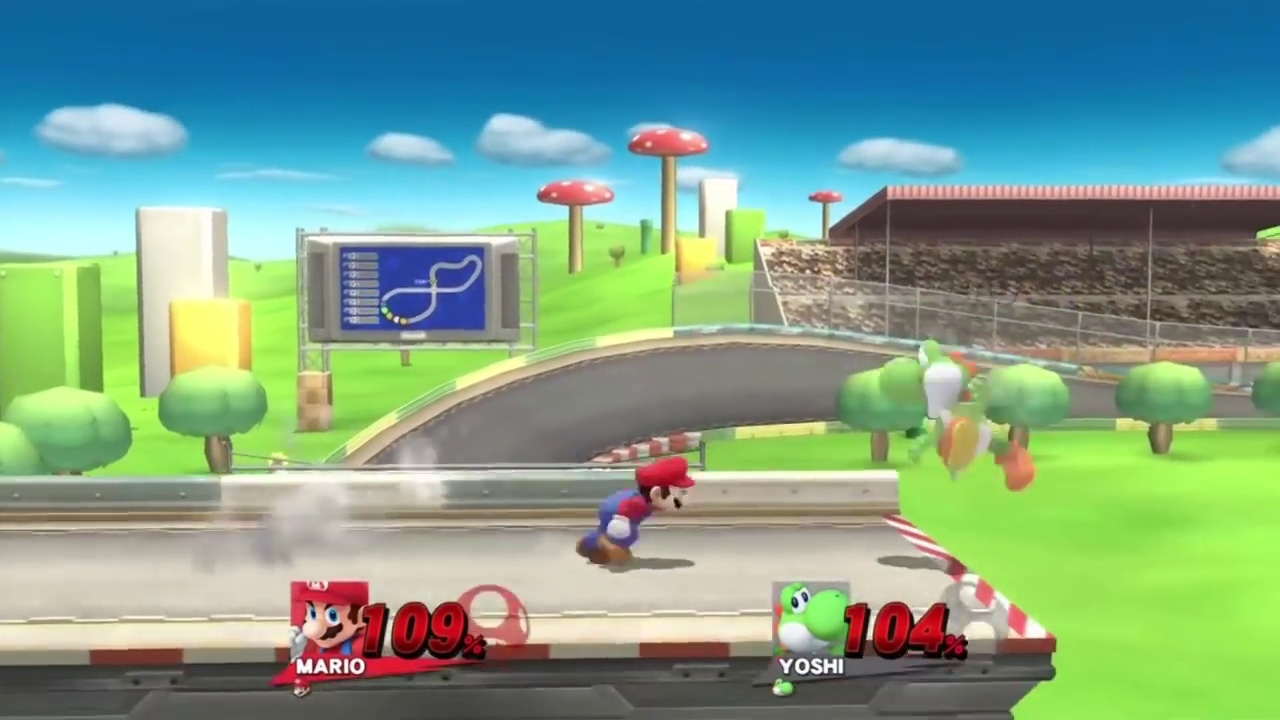Mario: (577, 456, 697, 567)
